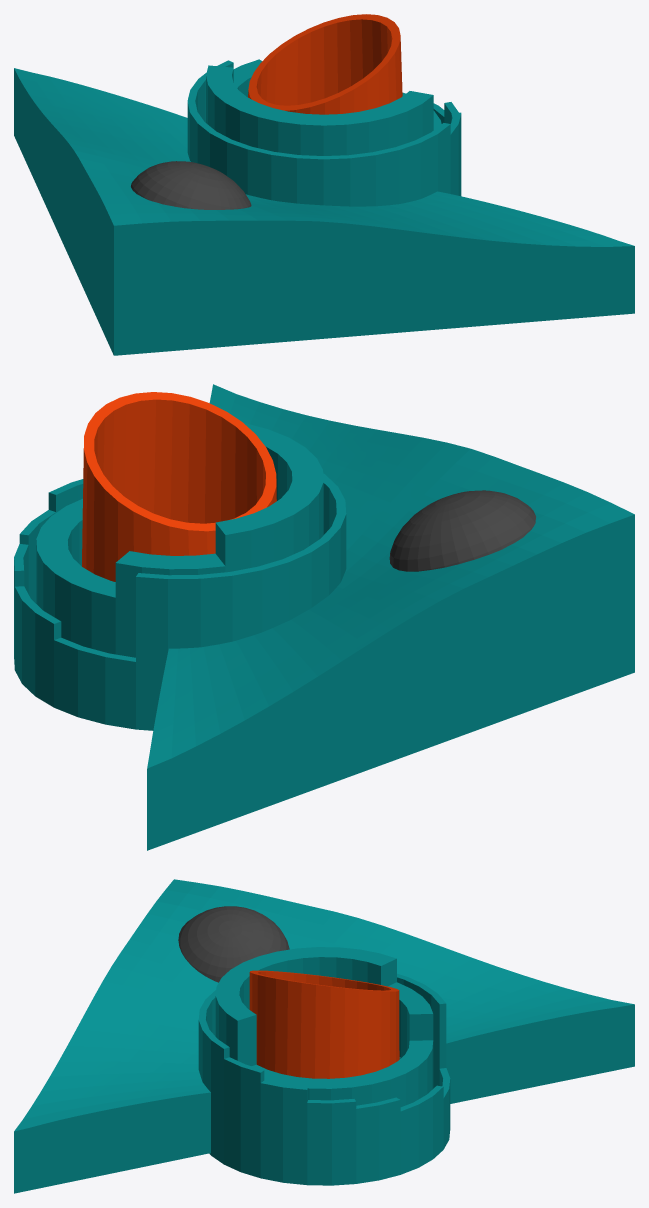
The model's file is parlement.gltf.
3 renders of one model, top to bottom at view 1: azimuth 30°, elevation 25°; view 2: azimuth 150°, elevation 25°; view 3: azimuth 270°, elevation 25°, orthographic. The views are drawn at different scales.
Visible parts, largest first — view 1: parlement; view 2: parlement; view 3: parlement.
Part boxes in pixels (bbox=[...]): parlement: bbox=[14, 14, 634, 355]; parlement: bbox=[14, 384, 634, 850]; parlement: bbox=[14, 879, 634, 1193].
Bounding box in the file's own units: 0.3918 × 0.1664 × 0.5278.
3 materials, 3 textured.
